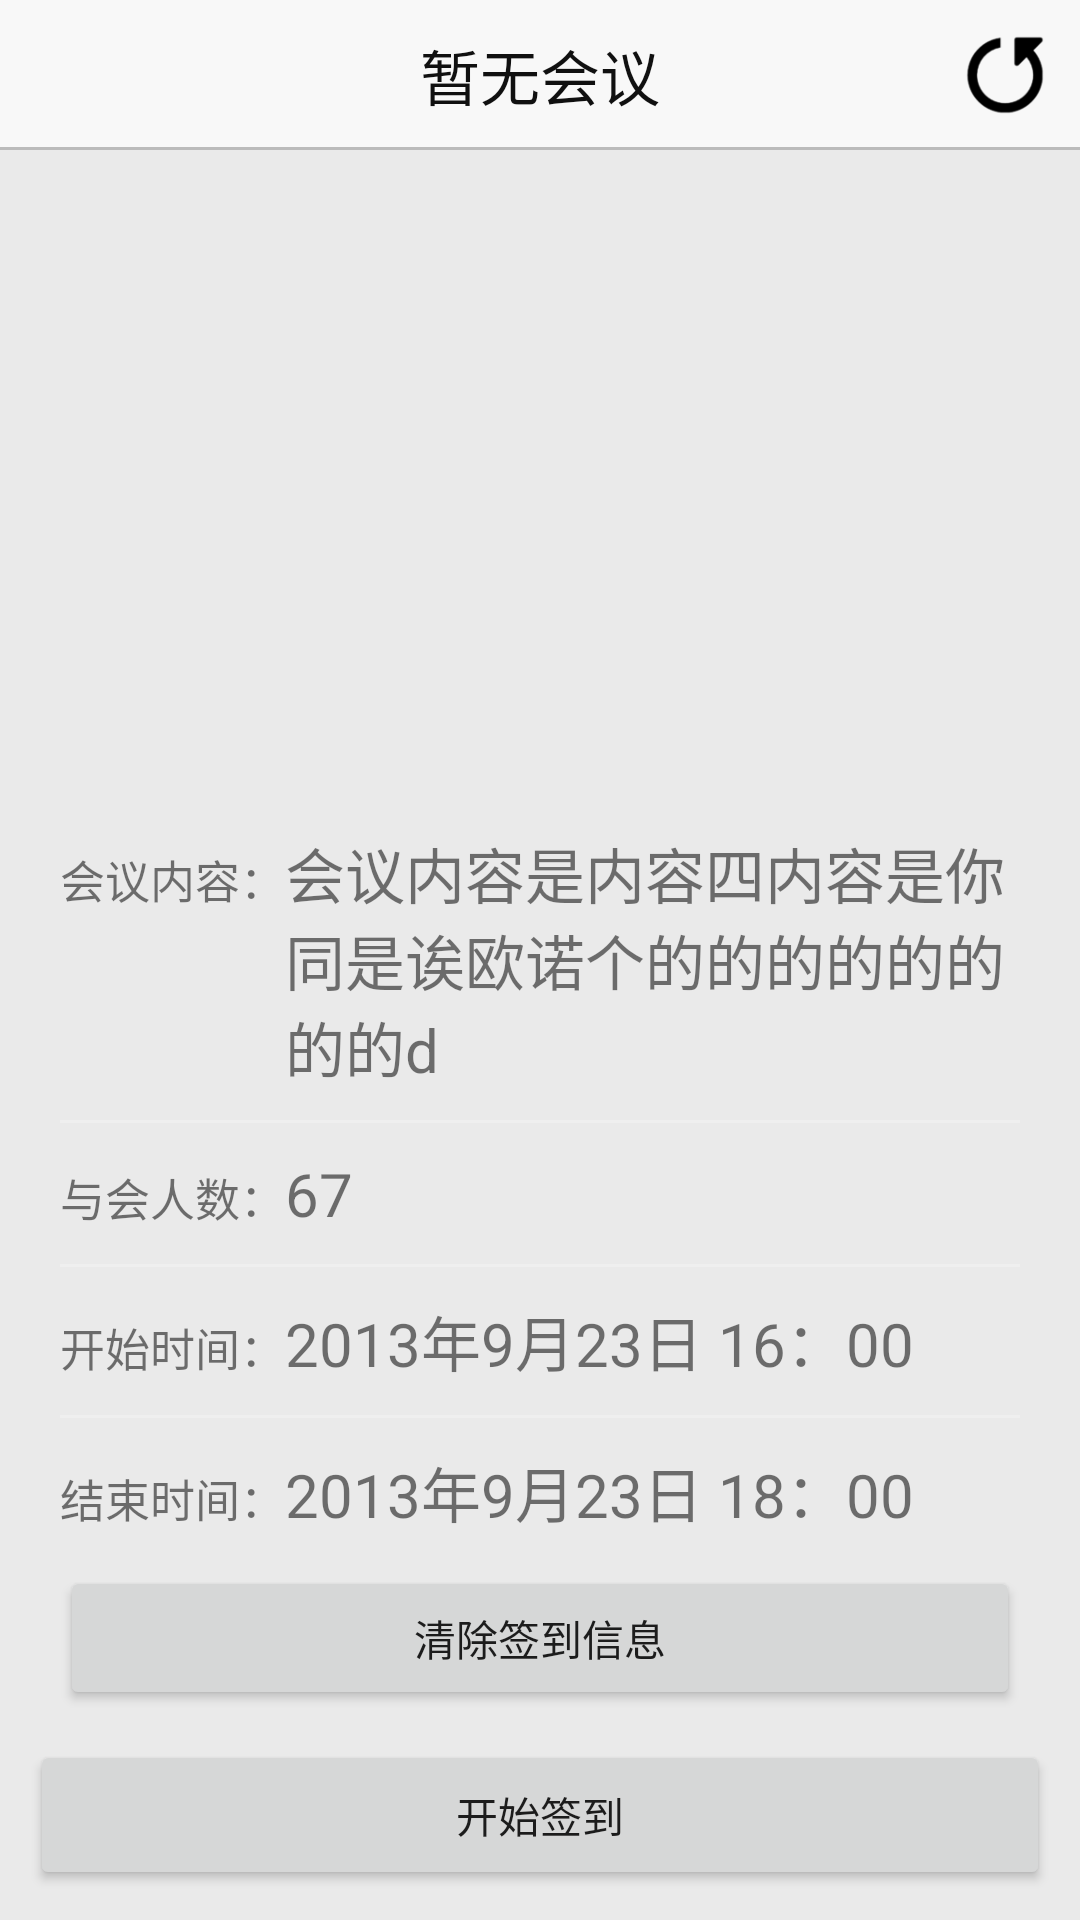

Where to tap for icons on this 1080px×1920px app screen, as point (x, y):
refresh: point (1005, 75)
